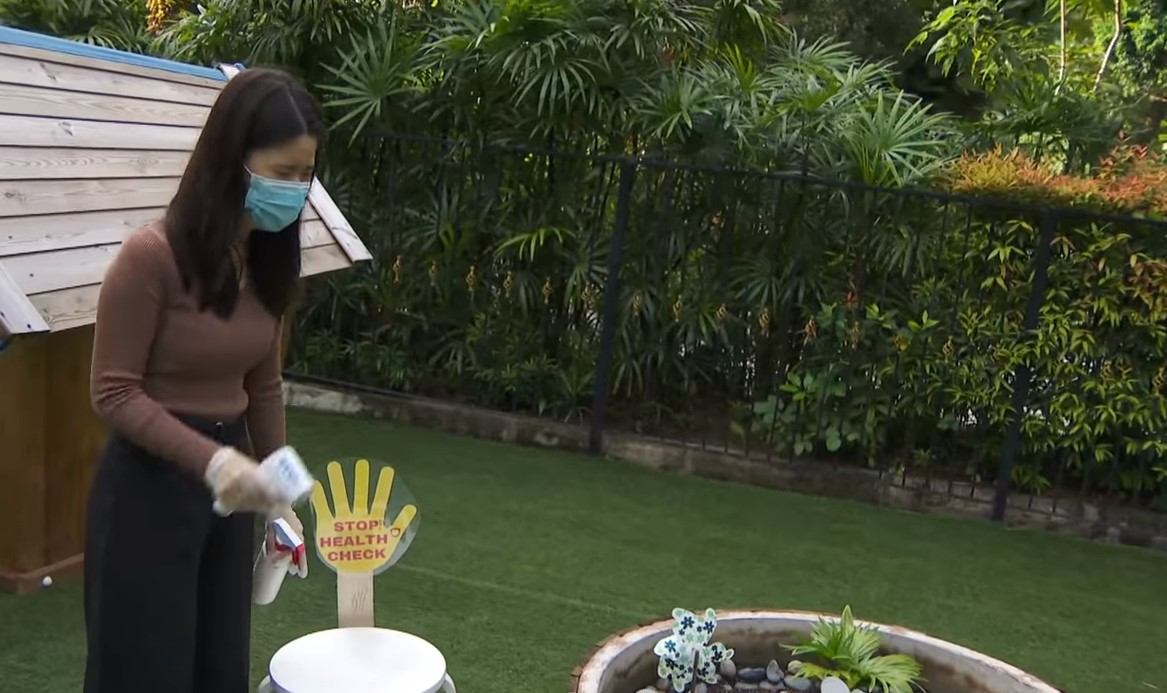face_with_mask: (212, 67, 326, 246)
